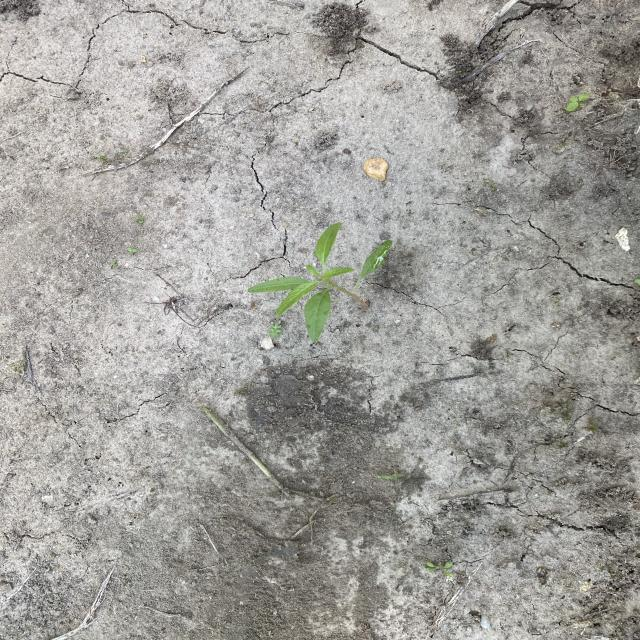Waterhemp: (246, 221, 394, 343)
